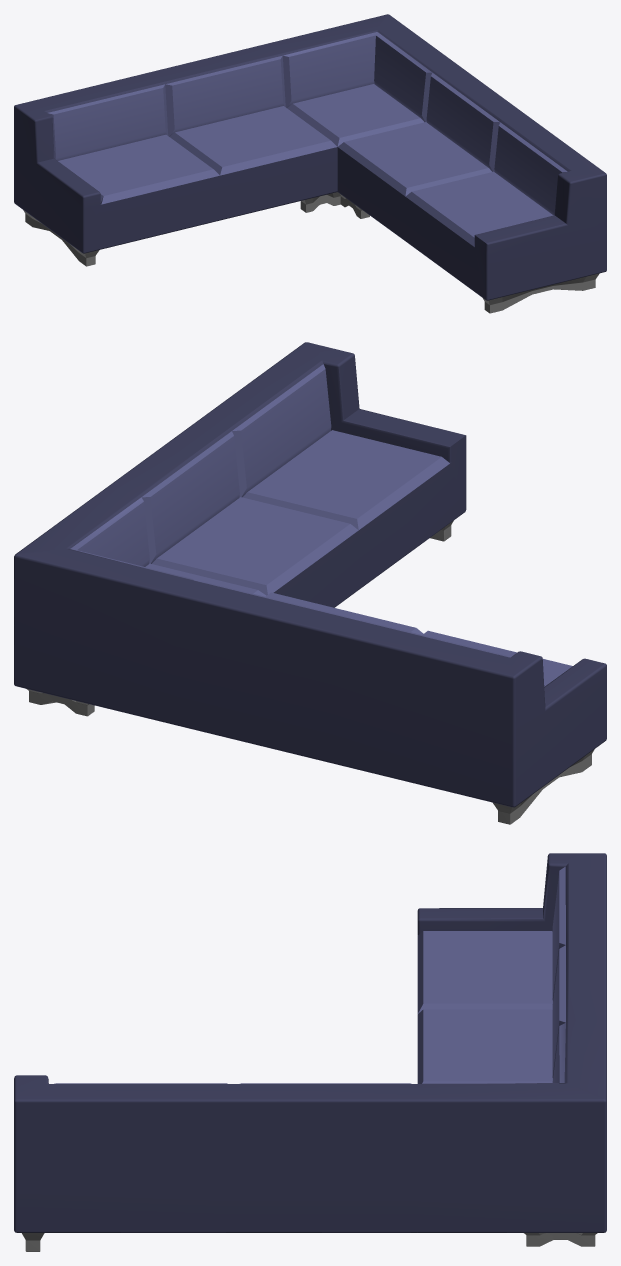
Rendered from L_Couch.fbx.
3 renders of one model, top to bottom at view 1: azimuth 30°, elevation 25°; view 2: azimuth 150°, elevation 25°; view 3: azimuth 270°, elevation 25°, orthographic. The views are drawn at different scales.
Parts seen in each view (by area): view 1: L_Body, L_Feet; view 2: L_Body, L_Feet; view 3: L_Body, L_Feet.
Boxes of the visible parts, x1,y1,x2,y2 form: L_Body: (14, 14, 606, 300); L_Feet: (23, 192, 599, 313); L_Body: (14, 342, 606, 807); L_Feet: (26, 520, 594, 824); L_Body: (14, 853, 606, 1232); L_Feet: (22, 1233, 597, 1251).
Size of the model in its own units: 278 by 81.97 by 281.
